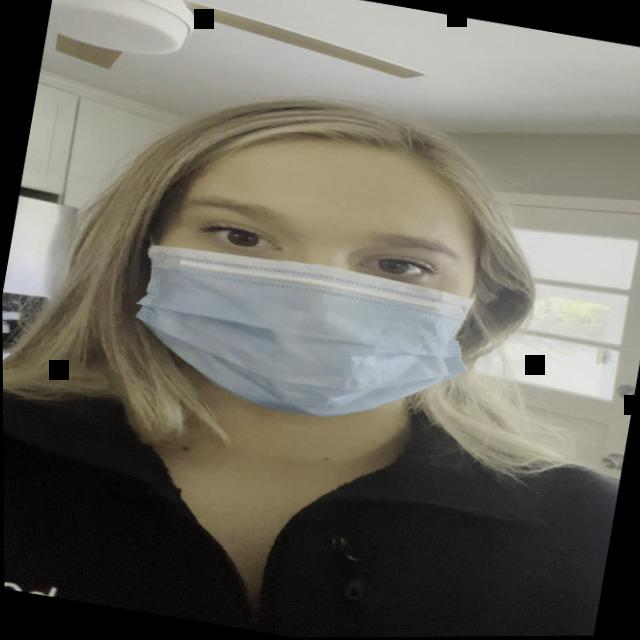Mask: (83, 86, 542, 473)
